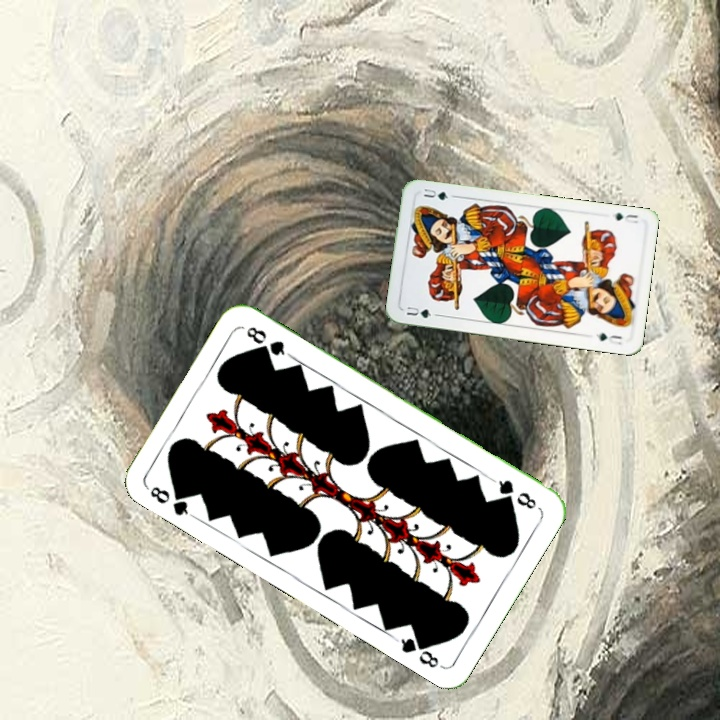G8: (143, 482, 197, 520), (488, 475, 539, 512)
GU: (402, 302, 434, 321), (611, 209, 640, 226)
